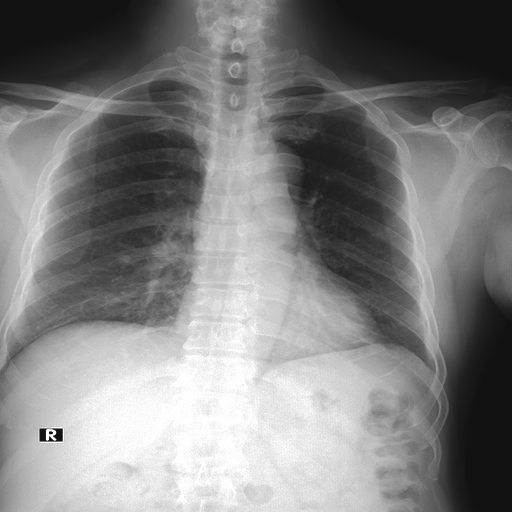Consolidation: (246, 140, 304, 191)
